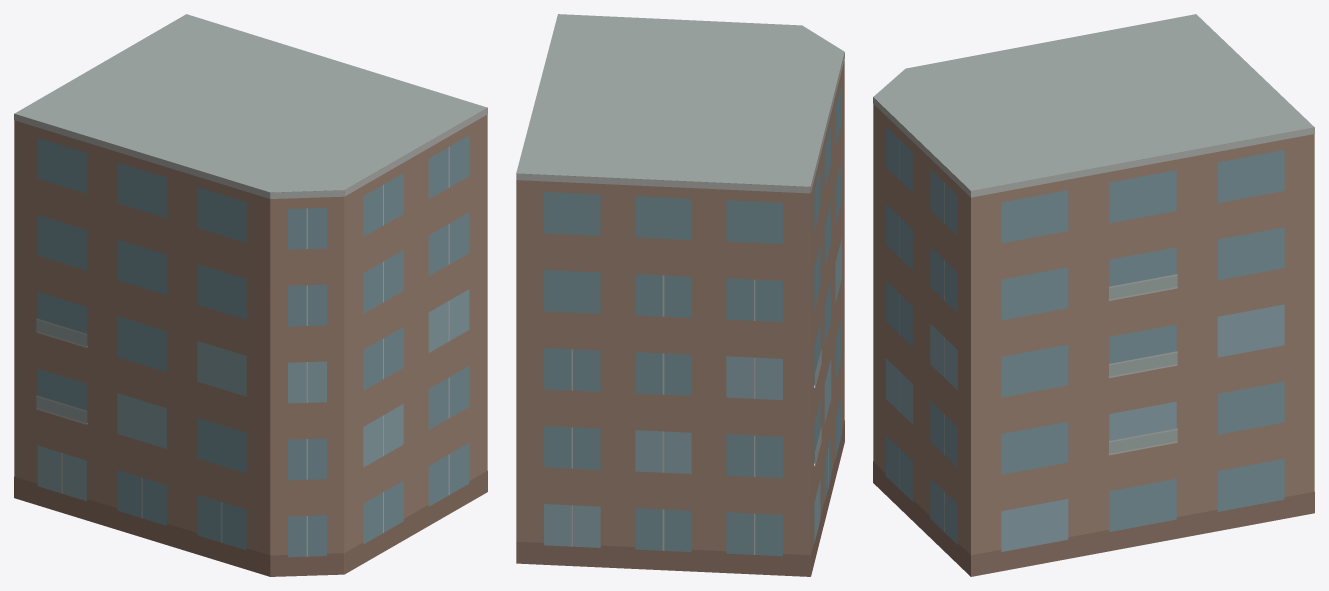
File: survey-upis-32881040.glb
The picture shows the model from 3 angles, left to right: view 1: azimuth 30°, elevation 25°; view 2: azimuth 150°, elevation 25°; view 3: azimuth 270°, elevation 25°; orthographic projection.
Parts seen in each view (by area): view 1: survey-upis-32881040.tmp; view 2: survey-upis-32881040.tmp; view 3: survey-upis-32881040.tmp.
Boxes of the visible parts, x1,y1,x2,y2 form: survey-upis-32881040.tmp: (14, 14, 487, 576); survey-upis-32881040.tmp: (516, 14, 844, 576); survey-upis-32881040.tmp: (873, 14, 1314, 576).
Size of the model in its own units: 14.03 by 14.25 by 14.79.
